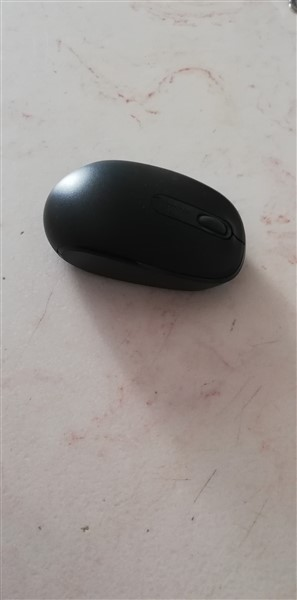mouse: (39, 154, 252, 300)
